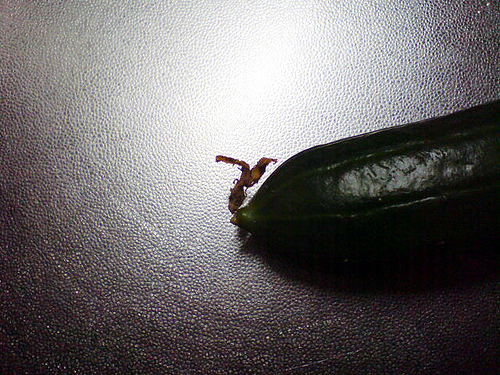cucumber: (207, 88, 499, 290)
